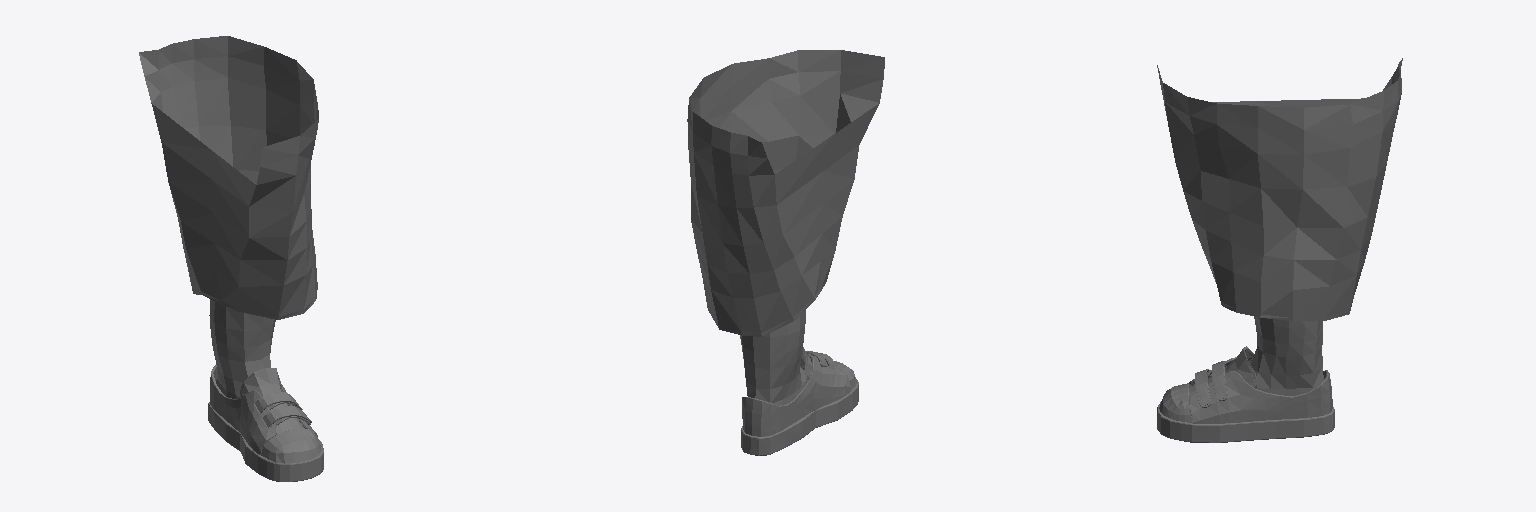
File: PiernaIzquierda.obj
The picture shows the model from 3 angles: view 1: azimuth 30°, elevation 25°; view 2: azimuth 150°, elevation 25°; view 3: azimuth 270°, elevation 25°; orthographic projection.
Visible parts, largest first — view 1: girl; view 2: girl; view 3: girl.
Boxes of the visible parts, <box> form: girl: <box>139,36,323,481</box>; girl: <box>687,50,884,455</box>; girl: <box>1157,58,1402,442</box>.
Size of the model in its own units: 14.13 by 42.81 by 27.12.